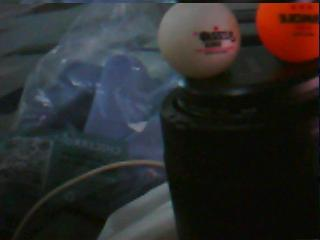oball: (257, 3, 320, 62)
